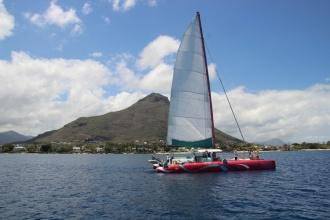fanchuan: (148, 9, 282, 173)
